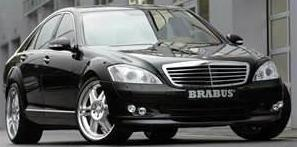front_view: (98, 47, 284, 133)
headlight: (99, 55, 173, 92)
side_glass: (20, 9, 83, 54)
